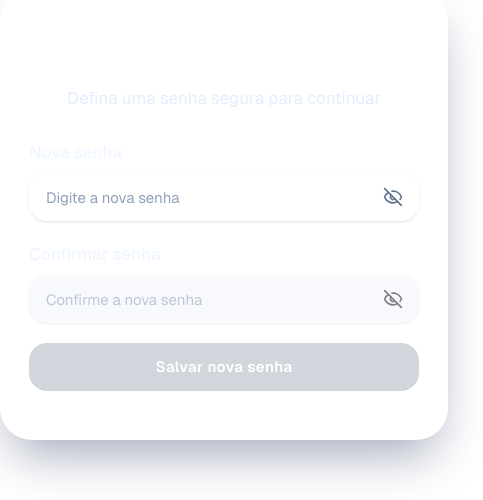
Test case: ChangePasswordForm › mantém submit desabilitado até o formulário ficar válido
Expected: the button "Salvar nova senha" is disabled, top-left (29, 343), bottom-right (419, 391)
In the password field with placeholder "Digite a nova senha": (224, 197) top-left (29, 173), bottom-right (419, 221), type "Abcdef1!"
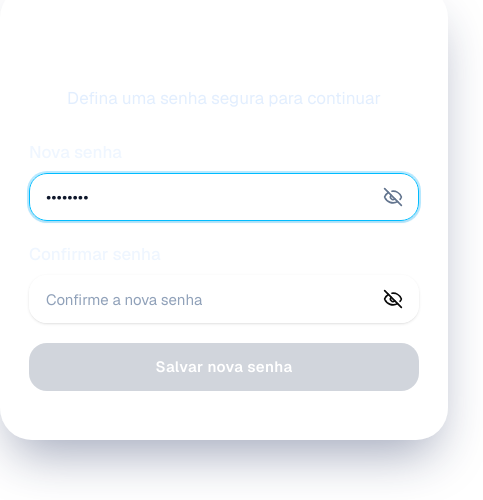
Expected: the button "Salvar nova senha" is disabled, top-left (29, 343), bottom-right (419, 391)
Expected: the password field with placeholder "Confirme a nova senha" is enabled
In the password field with placeholder "Confirme a nova senha": (224, 299) top-left (29, 275), bottom-right (419, 323), type "Abcdef1!"
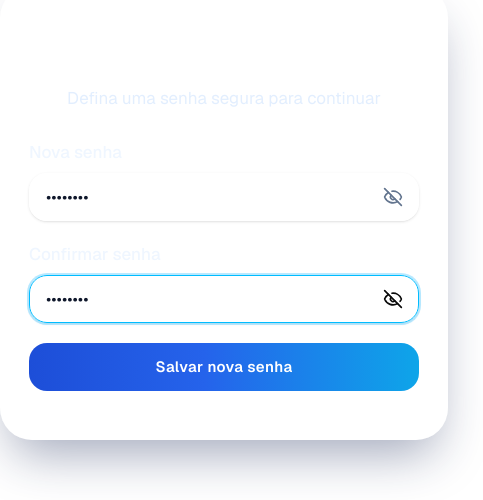
Expected: the button "Salvar nova senha" is enabled, top-left (29, 343), bottom-right (419, 391)
